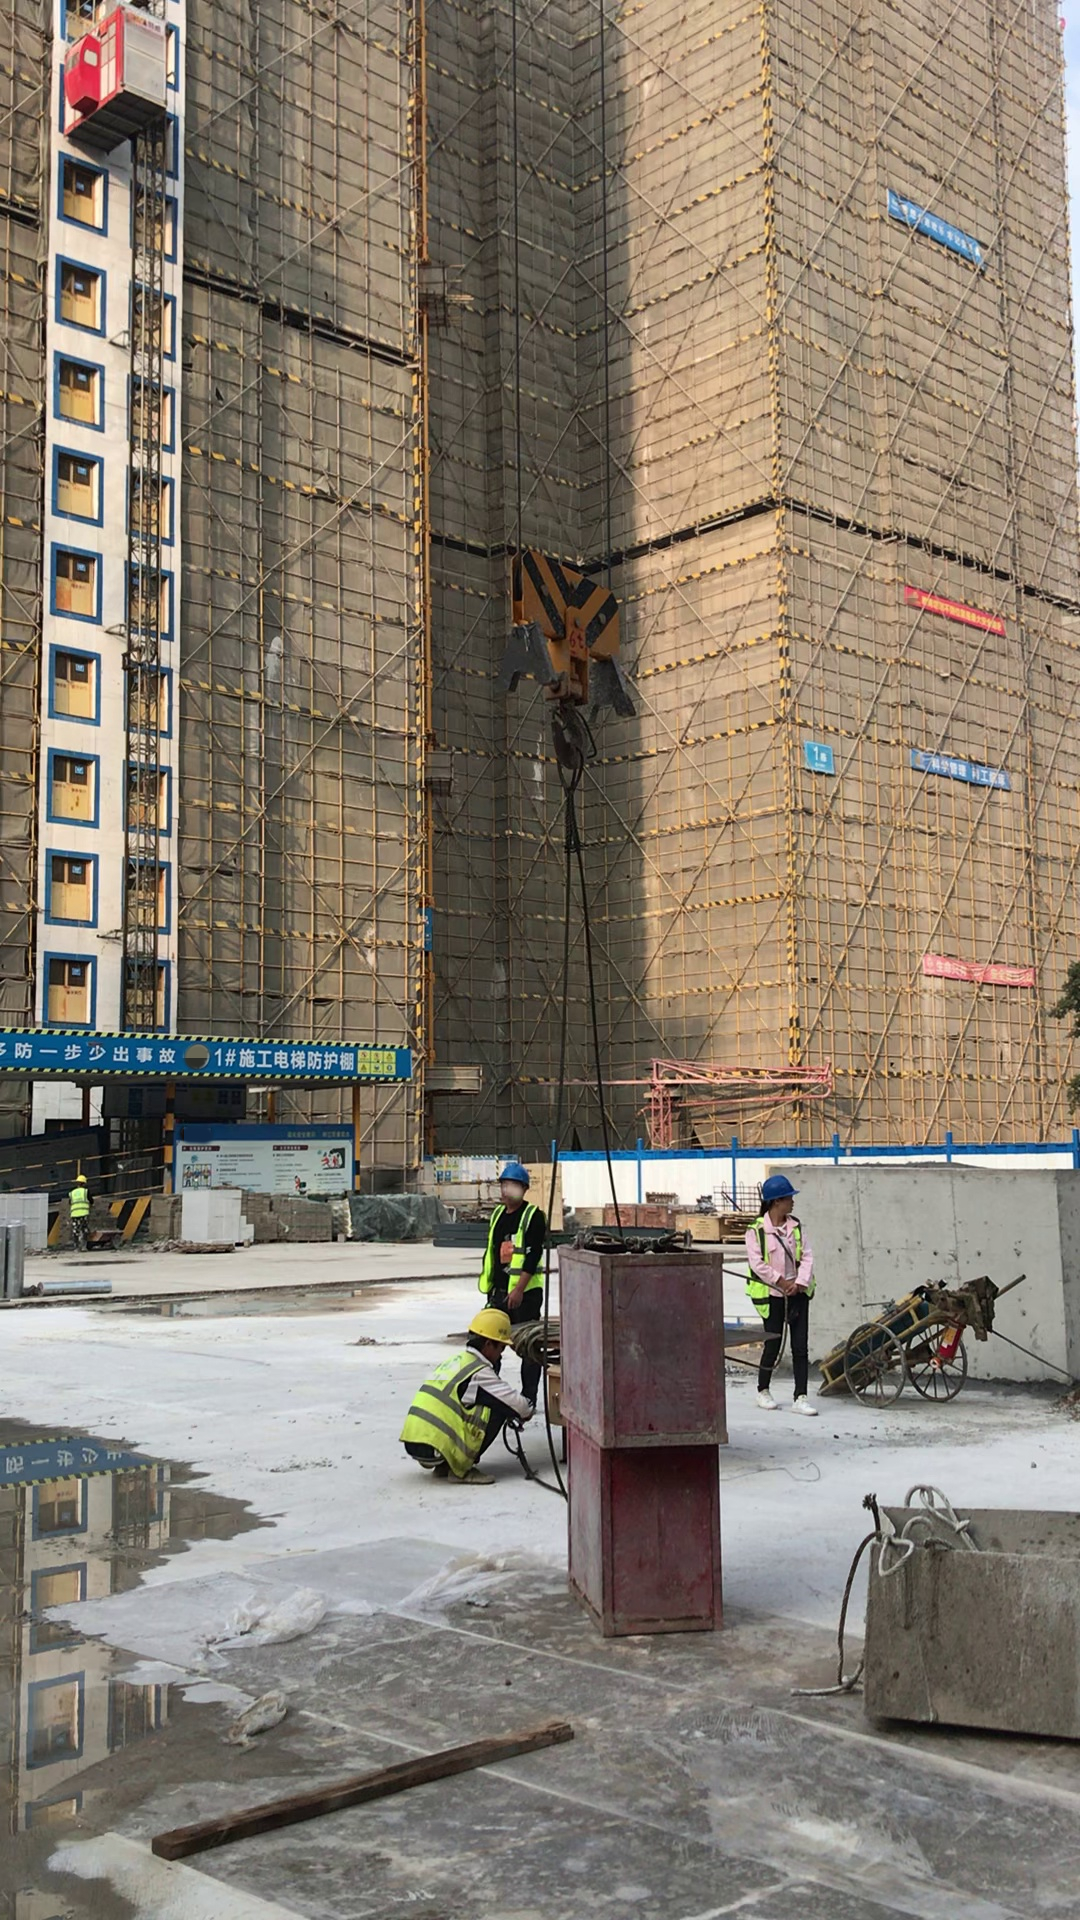brick: (172, 1181, 257, 1246), (1, 1179, 75, 1251)
ebox: (542, 1368, 573, 1435)
handcart: (802, 1262, 1041, 1416)
helmet: (466, 1302, 521, 1352), (755, 1168, 813, 1207), (489, 1159, 534, 1188), (67, 1168, 92, 1185)
hook: (445, 524, 658, 841)
hopper: (809, 1469, 1080, 1759)
person: (403, 1298, 568, 1536), (732, 1152, 853, 1411), (474, 1146, 568, 1396), (57, 1159, 113, 1261)
slogan: (1, 1009, 425, 1088), (166, 1125, 350, 1194), (878, 187, 997, 284), (1, 1431, 165, 1491), (894, 581, 1009, 647), (904, 736, 1023, 799), (908, 951, 1040, 1000), (426, 1155, 511, 1193), (793, 730, 843, 782)
vest: (399, 1347, 507, 1465), (744, 1215, 823, 1320), (475, 1200, 555, 1299), (65, 1181, 97, 1222)
wood: (240, 1185, 334, 1243), (142, 1188, 182, 1242)
